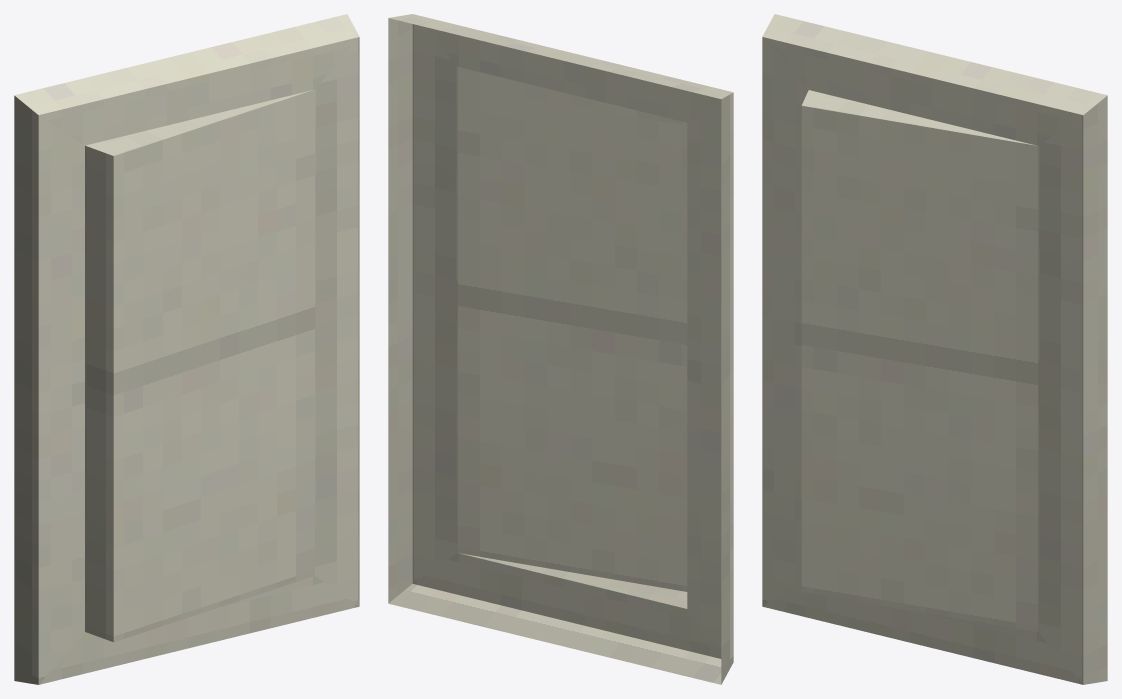
Rendered from Switch.glb.
3 renders of one model, left to right at view 1: azimuth 30°, elevation 25°; view 2: azimuth 150°, elevation 25°; view 3: azimuth 330°, elevation 25°, orthographic.
Visible parts, largest first — view 1: switch; view 2: switch; view 3: switch.
Boxes of the visible parts, <box> form: switch: <box>14,14,359,684</box>; switch: <box>388,14,733,684</box>; switch: <box>762,14,1107,684</box>.
Size of the model in its own units: 0.0579 by 0.0972 by 0.0109.
Materials: 1 (1 with a texture image).
